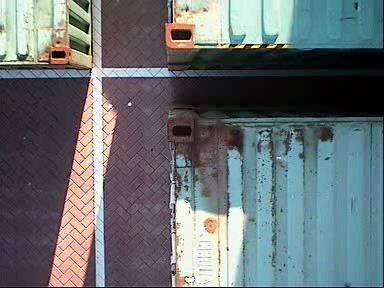groundmarker_2: (178, 1, 232, 97)
